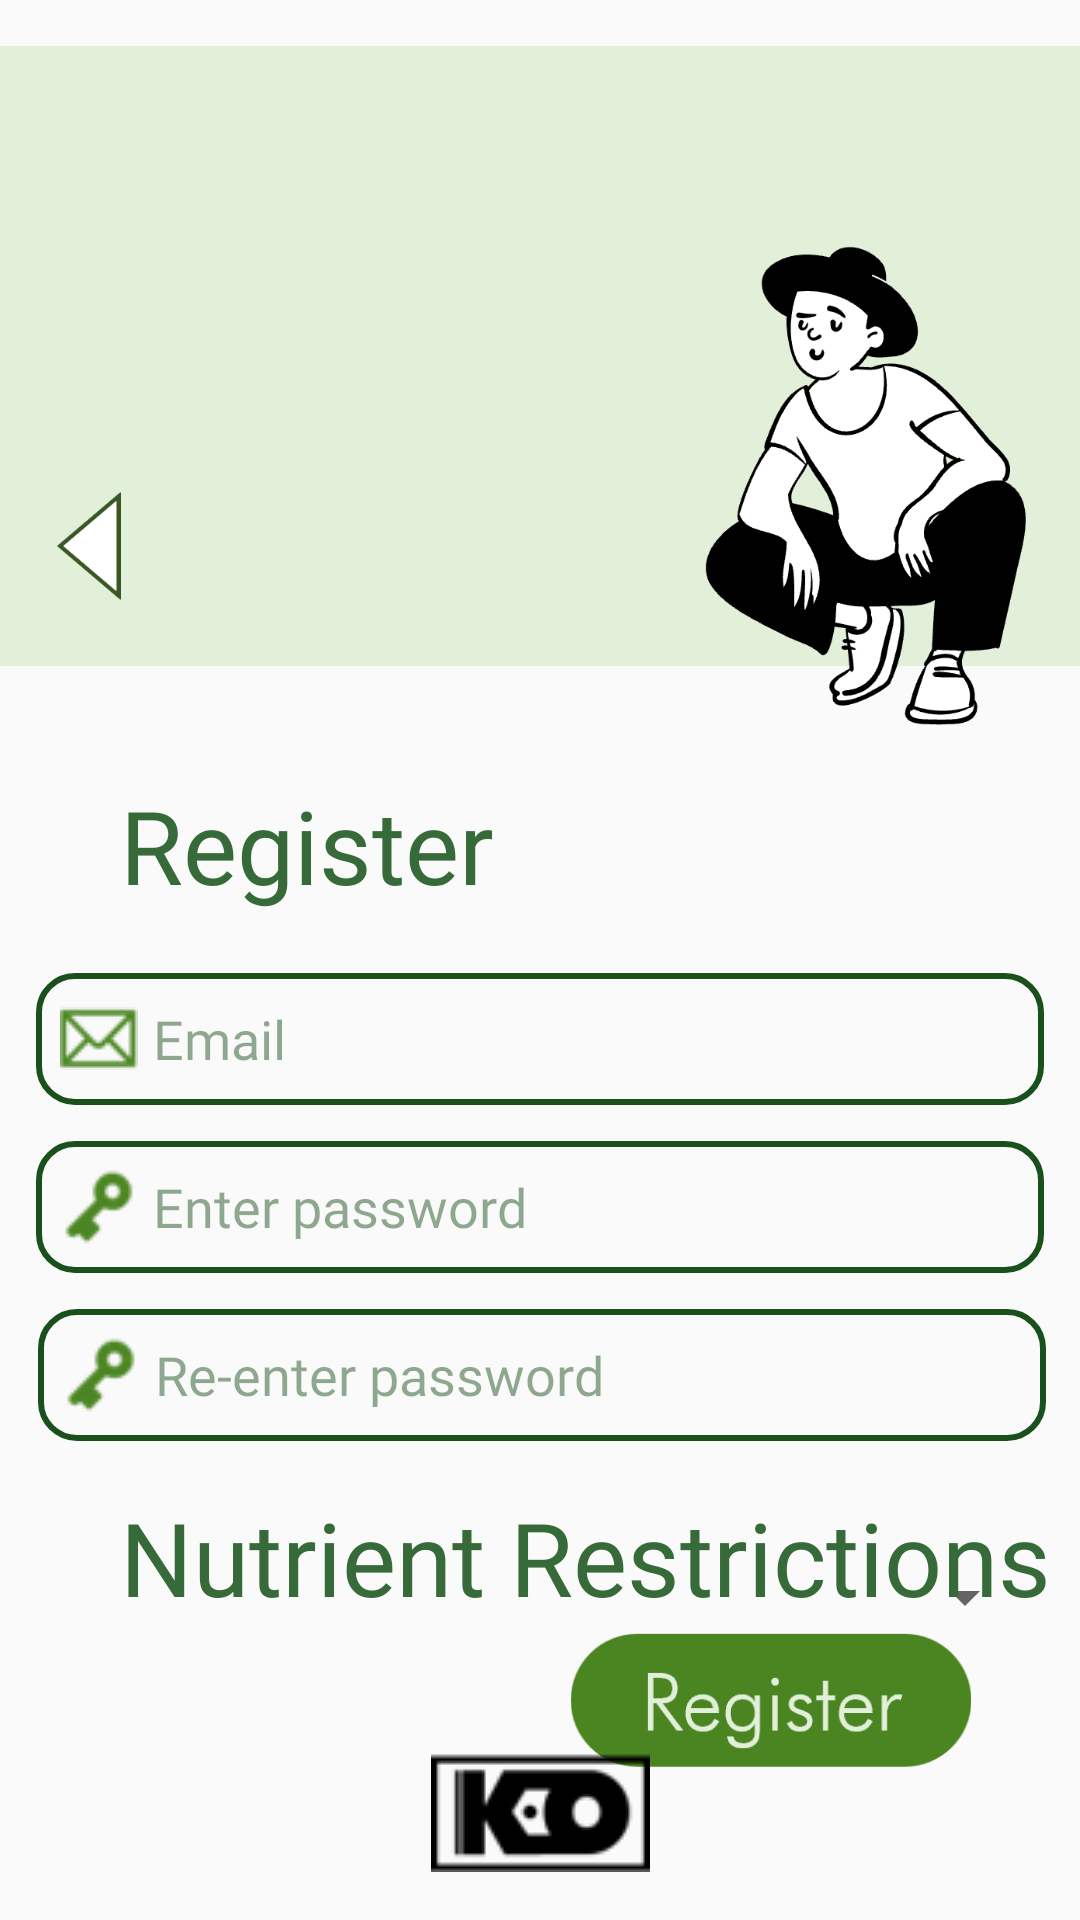

Where to tap for icons on this 1080*1920 app screen, as [x,y]:
back: [89,546]
